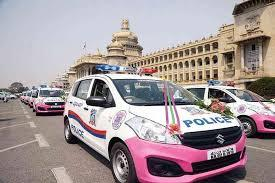Car: (60, 65, 258, 183), (176, 80, 275, 139), (31, 86, 66, 118)
